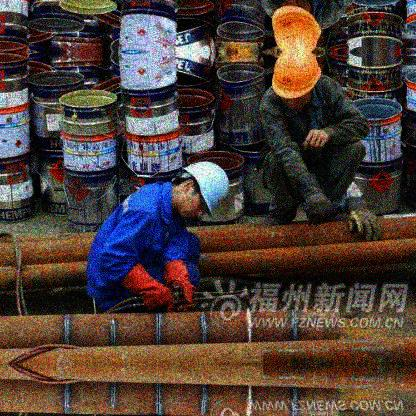helmet: (170, 161, 228, 219), (269, 51, 323, 112)
